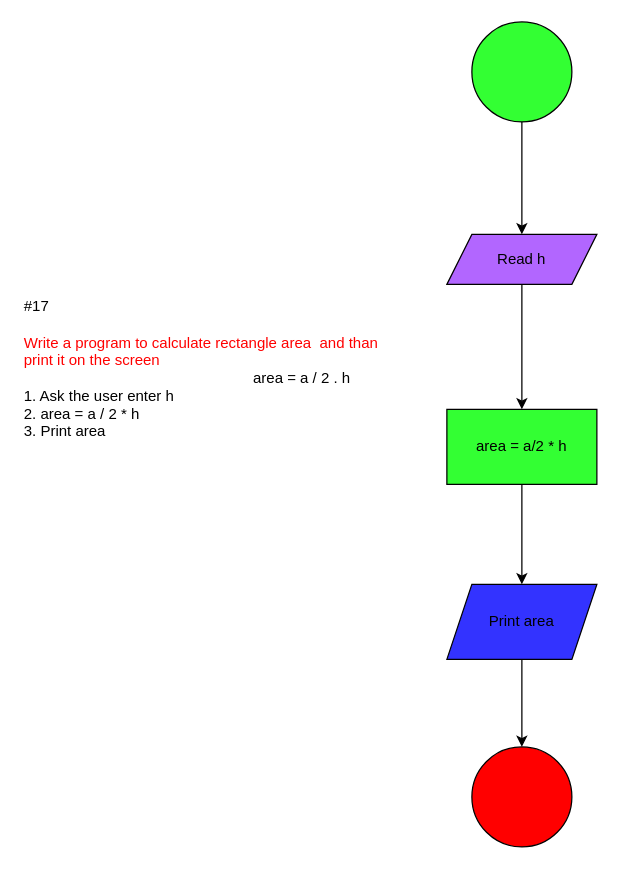
This 619x869 diagram has some shape labels left out. Each missing label, with the centre of its shape:
End: (521,796)
Start: (521,71)
